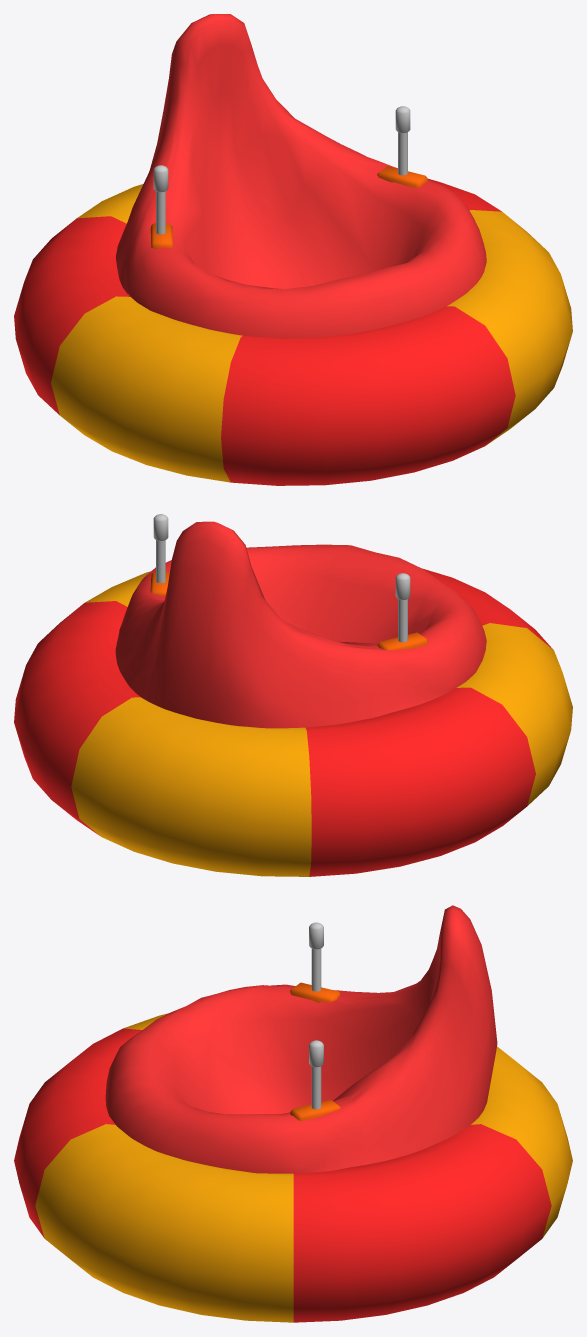
File: Car2.fbx
3 renders of one model, top to bottom at view 1: azimuth 30°, elevation 25°; view 2: azimuth 150°, elevation 25°; view 3: azimuth 270°, elevation 25°, orthographic.
Visible parts, largest first — view 1: Car1, Handle_R, Handle_L; view 2: Car1, Handle_R, Handle_L; view 3: Car1, Handle_L, Handle_R.
Part boxes in pixels (x1,y1,x2,y2): Car1: [14, 14, 572, 485]; Handle_R: [153, 165, 168, 234]; Handle_L: [395, 106, 410, 175]; Car1: [14, 521, 572, 876]; Handle_R: [395, 573, 410, 642]; Handle_L: [153, 514, 168, 583]; Car1: [14, 905, 572, 1322]; Handle_L: [309, 1040, 323, 1109]; Handle_R: [309, 922, 323, 991].
Size of the model in its own units: 144 by 90.84 by 144.
